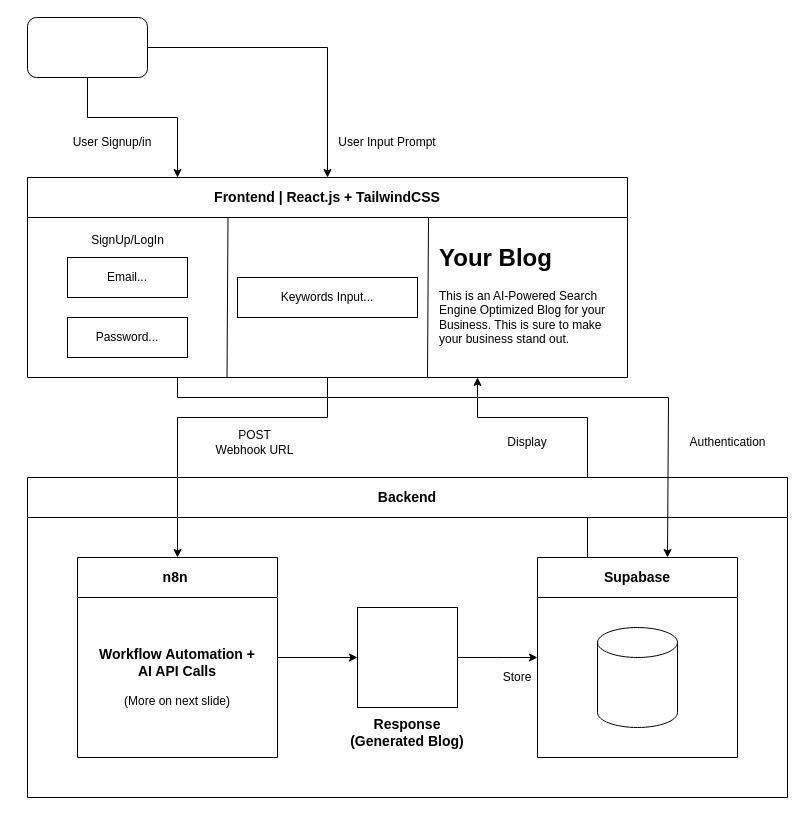
Some shapes in this 805 by 815 pixel diagram are drawn without their labels. The centre of each missing label's shape, as x and y in pixels:
"json object" belongs at [407,657].
"PostgreSQL" belongs at [637,677].
"User" belongs at [87,47].
